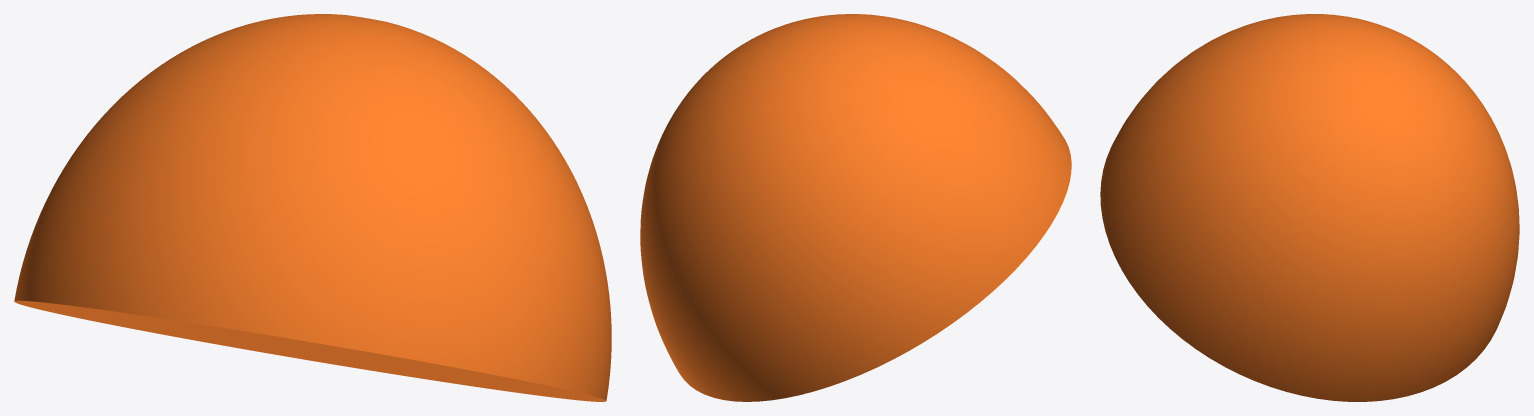
3 views of the same model, side by side, from view 1: azimuth 30°, elevation 25°; view 2: azimuth 150°, elevation 25°; view 3: azimuth 270°, elevation 25° (orthographic). The views are drawn at different scales.
Parts seen in each view (by area): view 1: mesh_id91; view 2: mesh_id91; view 3: mesh_id91.
Part boxes in pixels (bbox=[...]): mesh_id91: bbox=[14, 14, 611, 401]; mesh_id91: bbox=[640, 14, 1071, 401]; mesh_id91: bbox=[1100, 14, 1519, 401].
Bounding box in the file's own units: 0.2025 × 0.1636 × 0.2044.
1 material, 1 textured.
